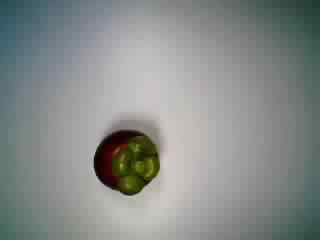mangosteen: (86, 125, 165, 203)
